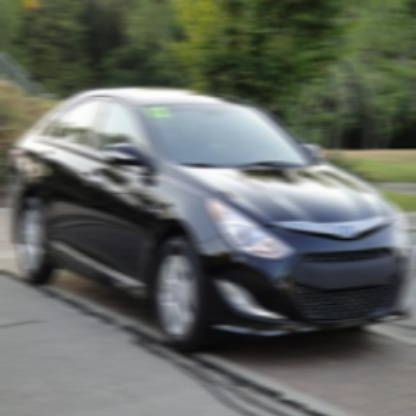Vehicle: (10, 87, 415, 358)
